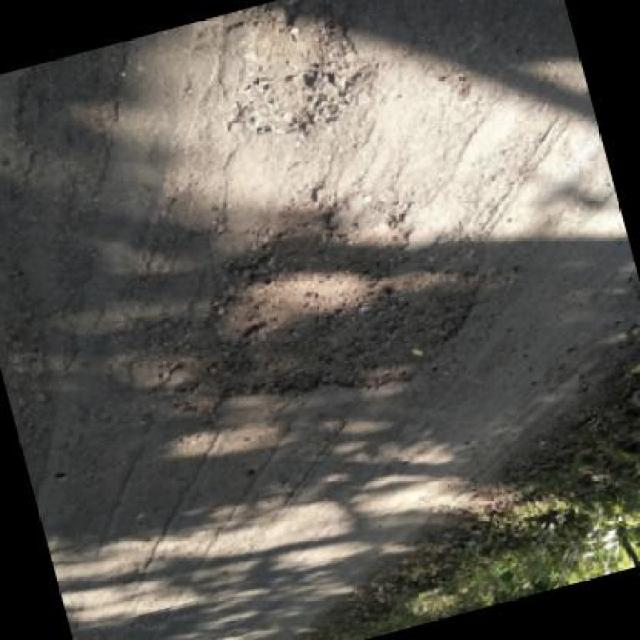pothole: (134, 154, 506, 440), (203, 0, 382, 151)
